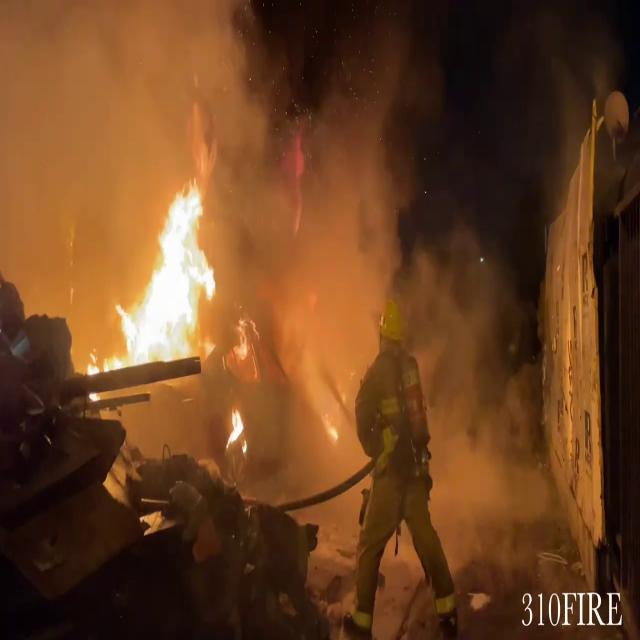Fire: (90, 128, 262, 370)
Smoke: (206, 16, 532, 547)
